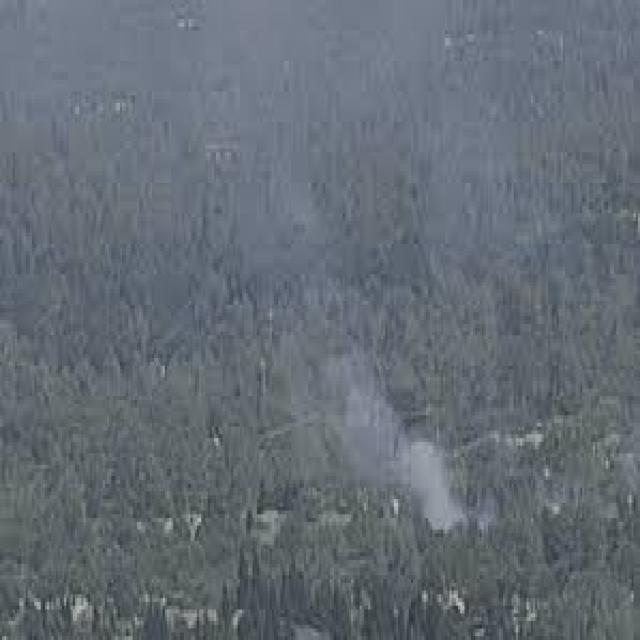Smoke: (407, 400, 463, 543)
